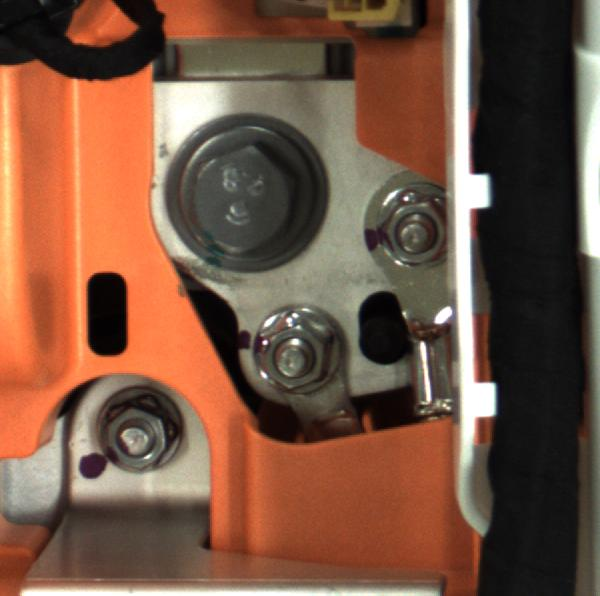nut_b: (171, 127, 309, 267)
screw_s: (242, 302, 346, 400), (95, 394, 178, 475), (372, 197, 445, 269)
